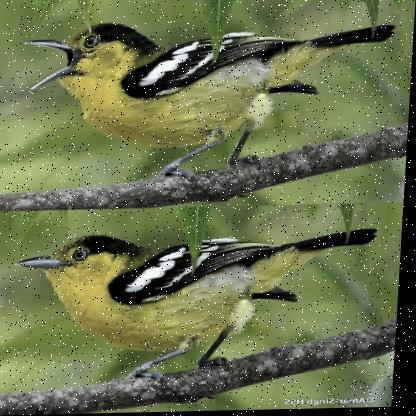Burung: (18, 18, 398, 195)
